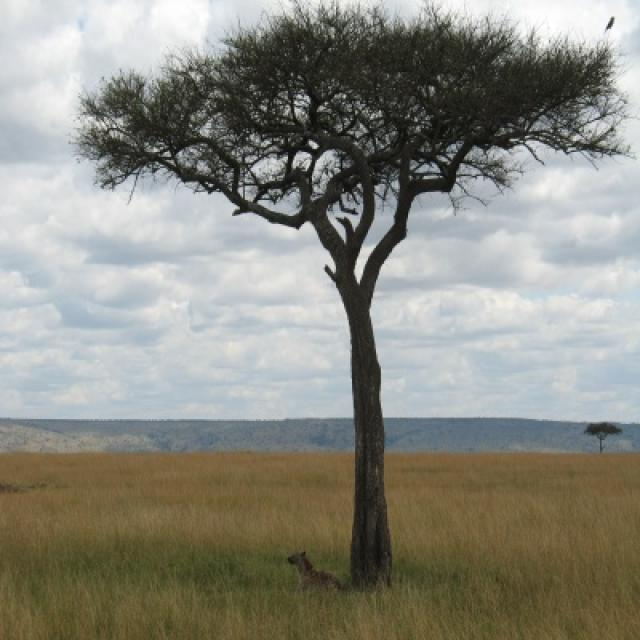hyena: (286, 552, 341, 590)
